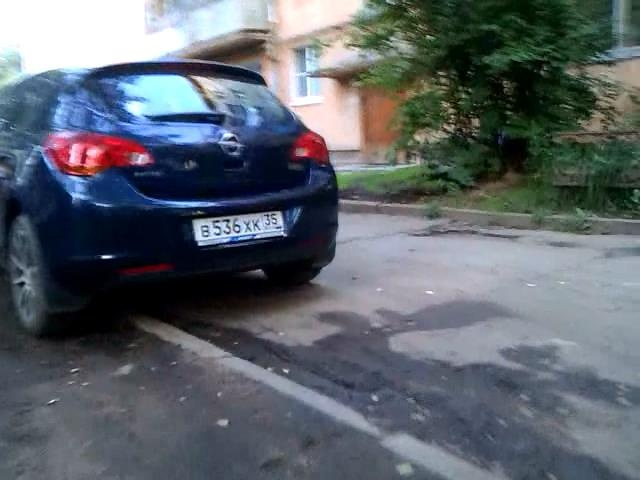car license plate: (190, 208, 289, 250)
